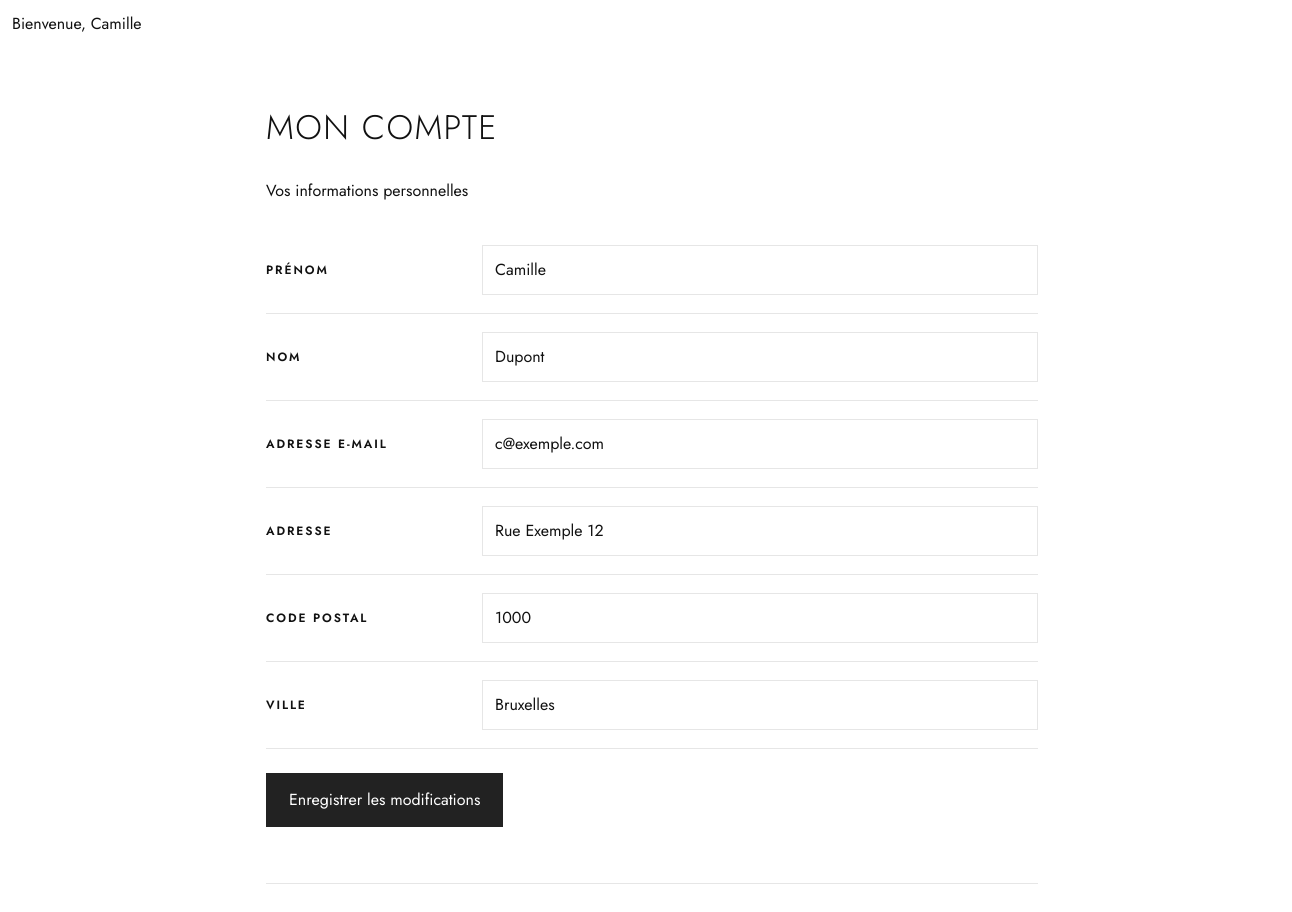
Test case: US6 › sans champ utilisable (origine refusée), place le focus sur le premier champ
Expected: the field showing "Bruxelles" is shown, top-left (482, 680), bottom-right (1038, 730)
Click the button "Enregistrer les modifications" at (385, 800), box top-left (266, 773), bottom-right (503, 827)
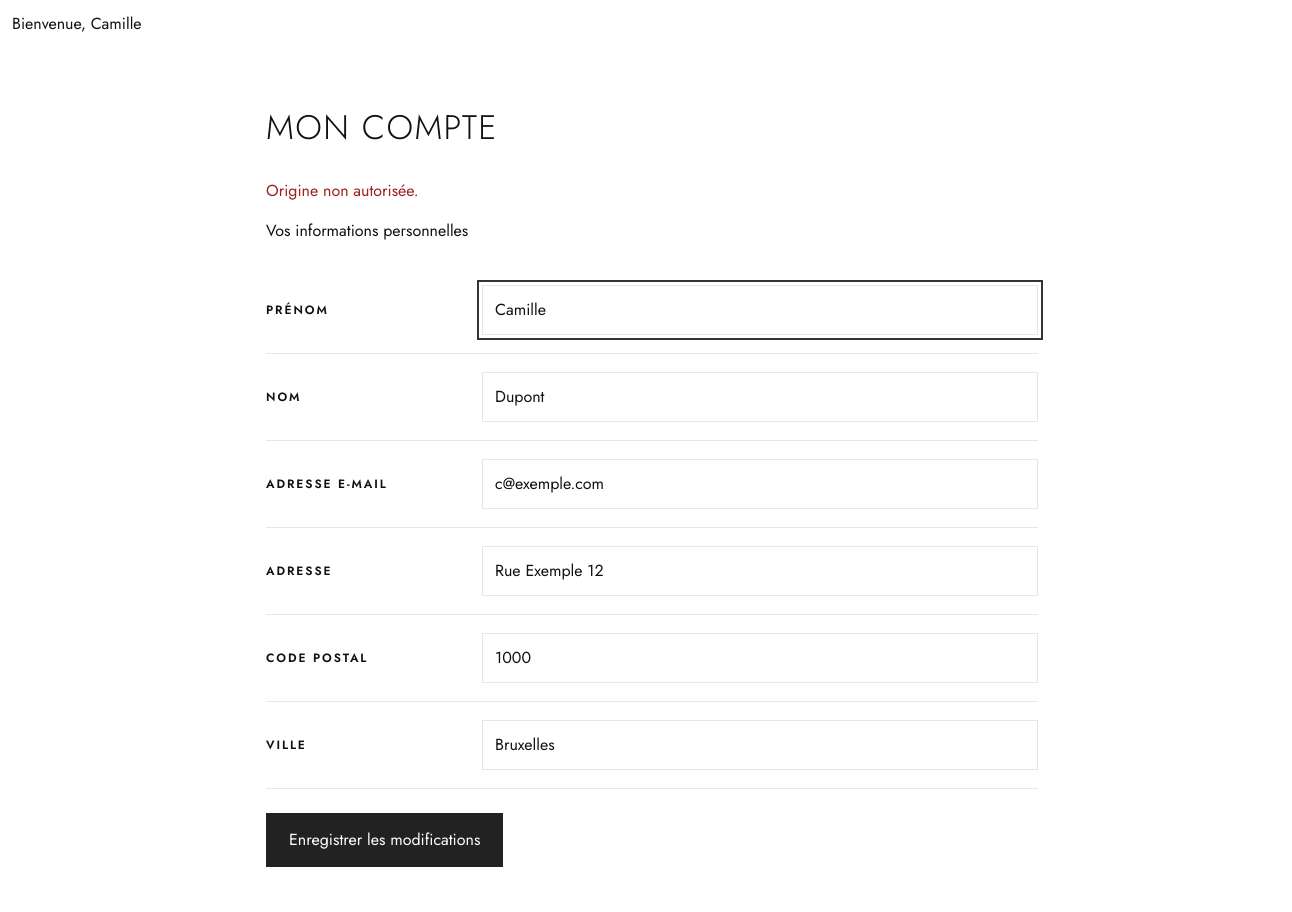
Now the message reads "Origine non autorisée.", box top-left (266, 179), bottom-right (419, 202)
